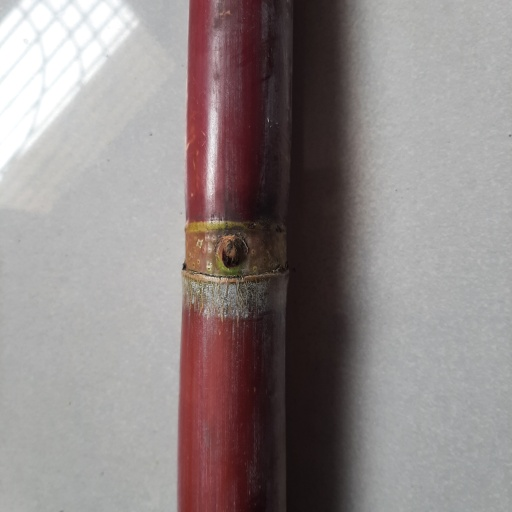Bud: (221, 236, 246, 270)
